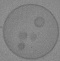small: (34, 17, 46, 27), (17, 43, 26, 50), (30, 34, 37, 42), (20, 32, 27, 39)
